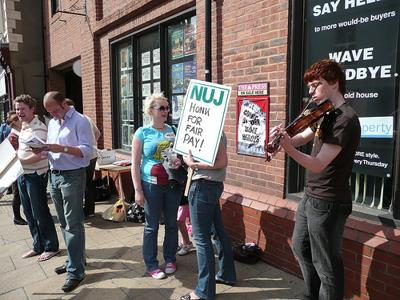person: (269, 58, 363, 300)
